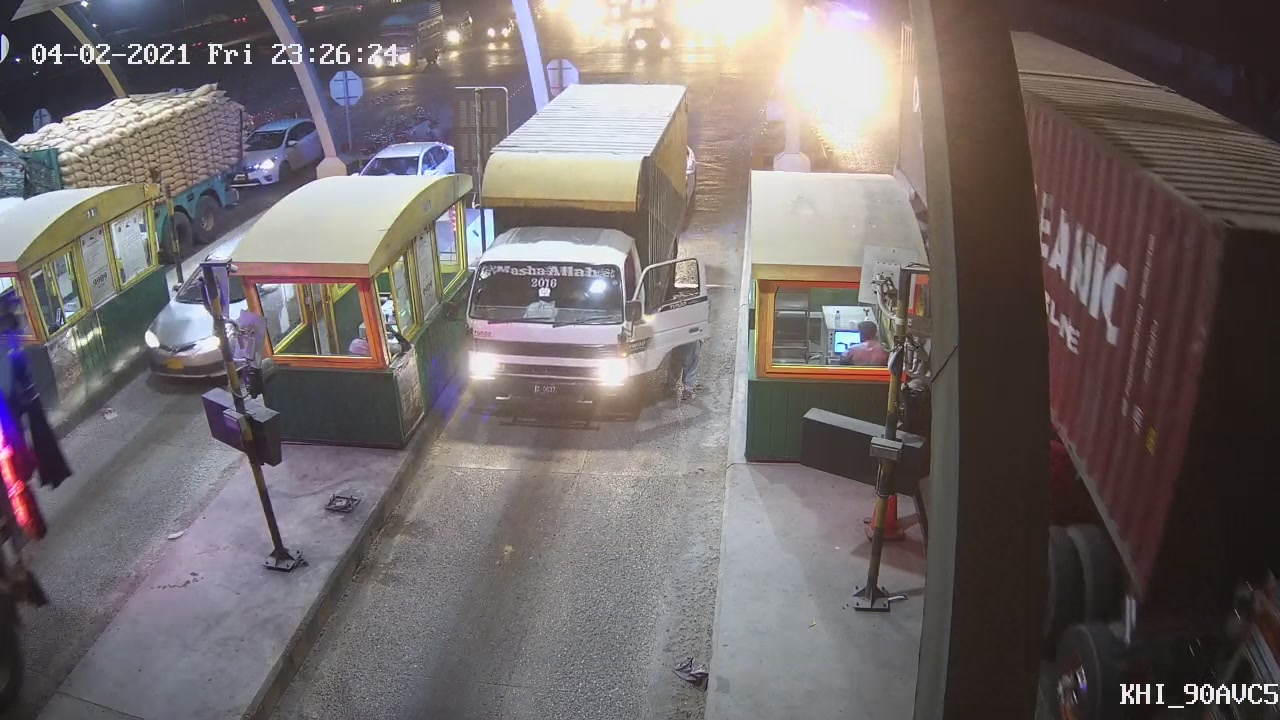F6: (433, 134, 640, 428)
